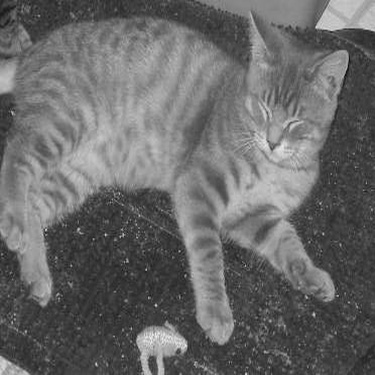cat: (3, 10, 347, 344)
